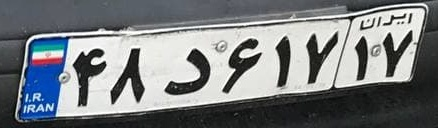character: (160, 39, 213, 100), (67, 39, 109, 112), (109, 38, 152, 108), (221, 29, 265, 97), (305, 24, 341, 84), (381, 26, 414, 80), (272, 30, 297, 90), (352, 33, 374, 84)
